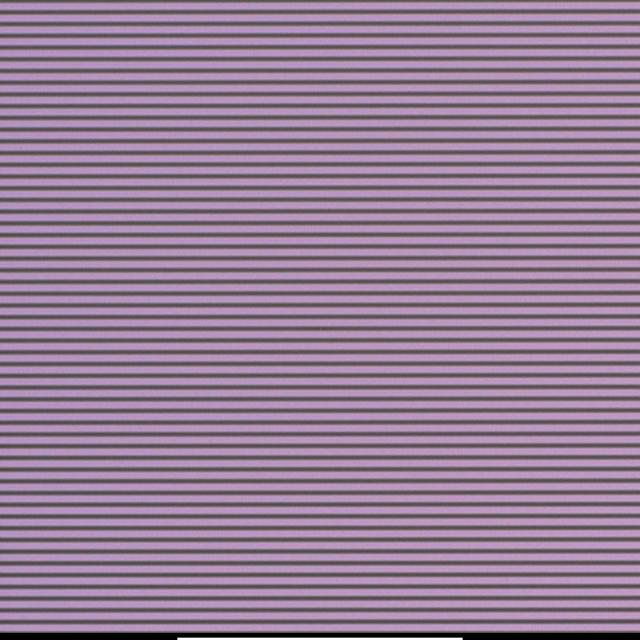03_intrusion: (314, 324, 328, 335)
